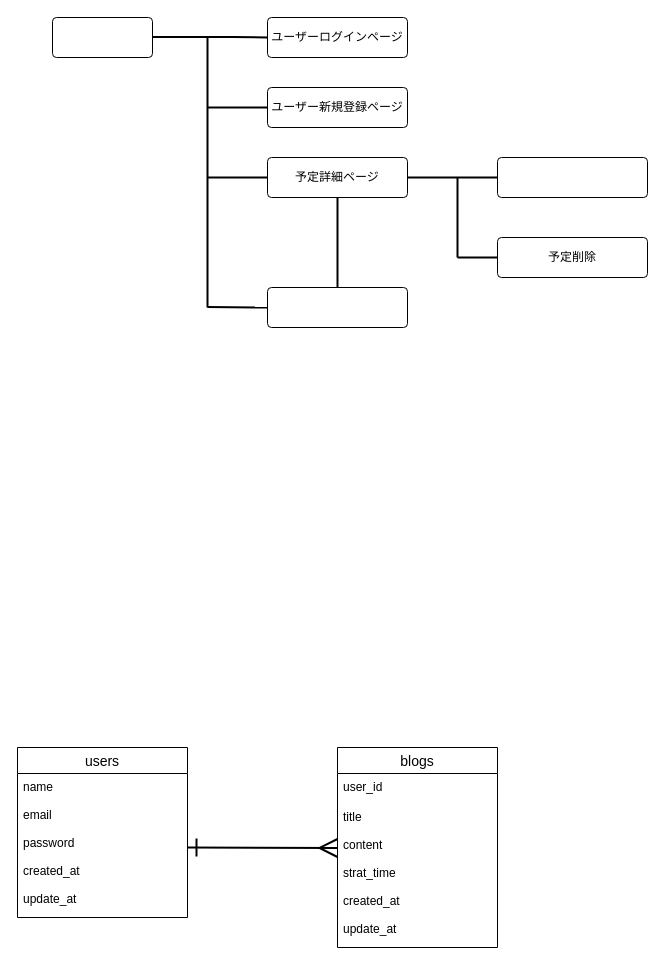
The diagram is 665 pixels wide and 968 high, and some of its shapes have lost their labels. The shapes that lost their labels are listed below. From the top down, each one's centre as x and y in pixels, then its label:
At pixel 102 37: "予定一覧ページ".
At pixel 572 177: "予定編集ページ".
At pixel 337 307: "Todayページ".
